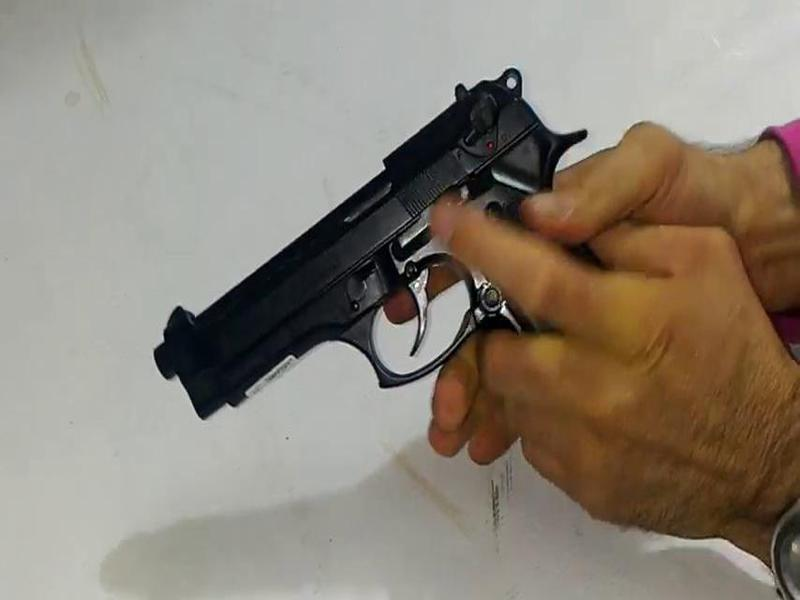Pistola: (100, 64, 630, 408)
